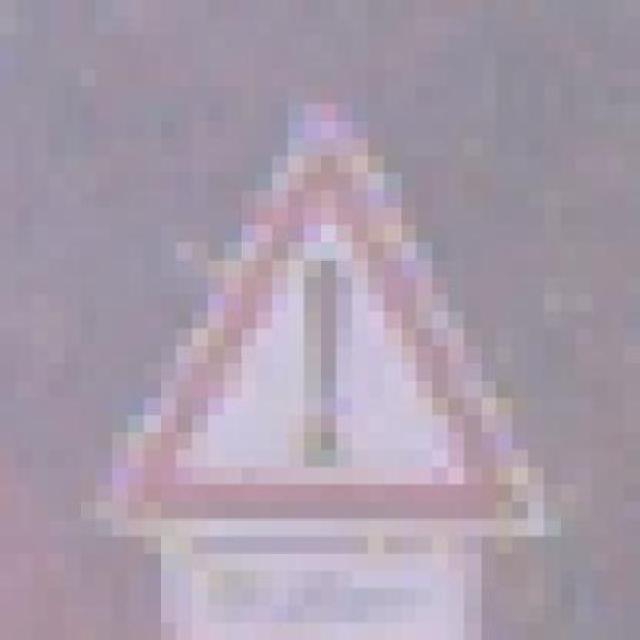Attention Please-: (80, 86, 560, 554)
